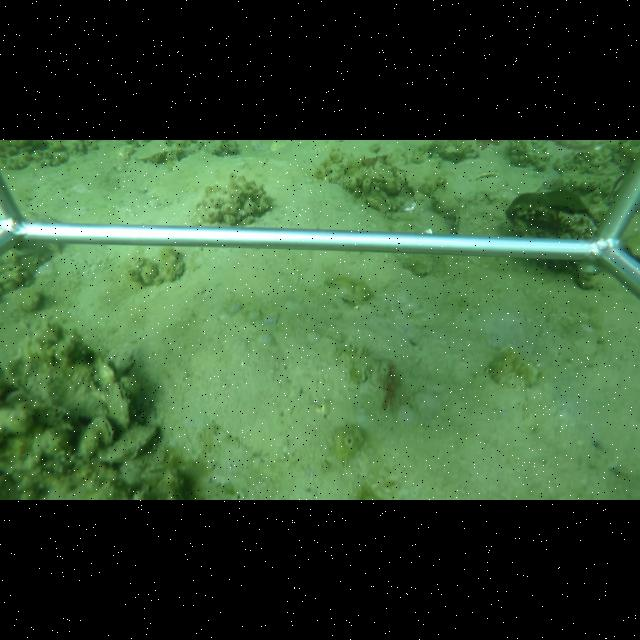Oyster-Closed: (3, 337, 132, 432), (96, 423, 160, 464), (74, 412, 116, 459)
